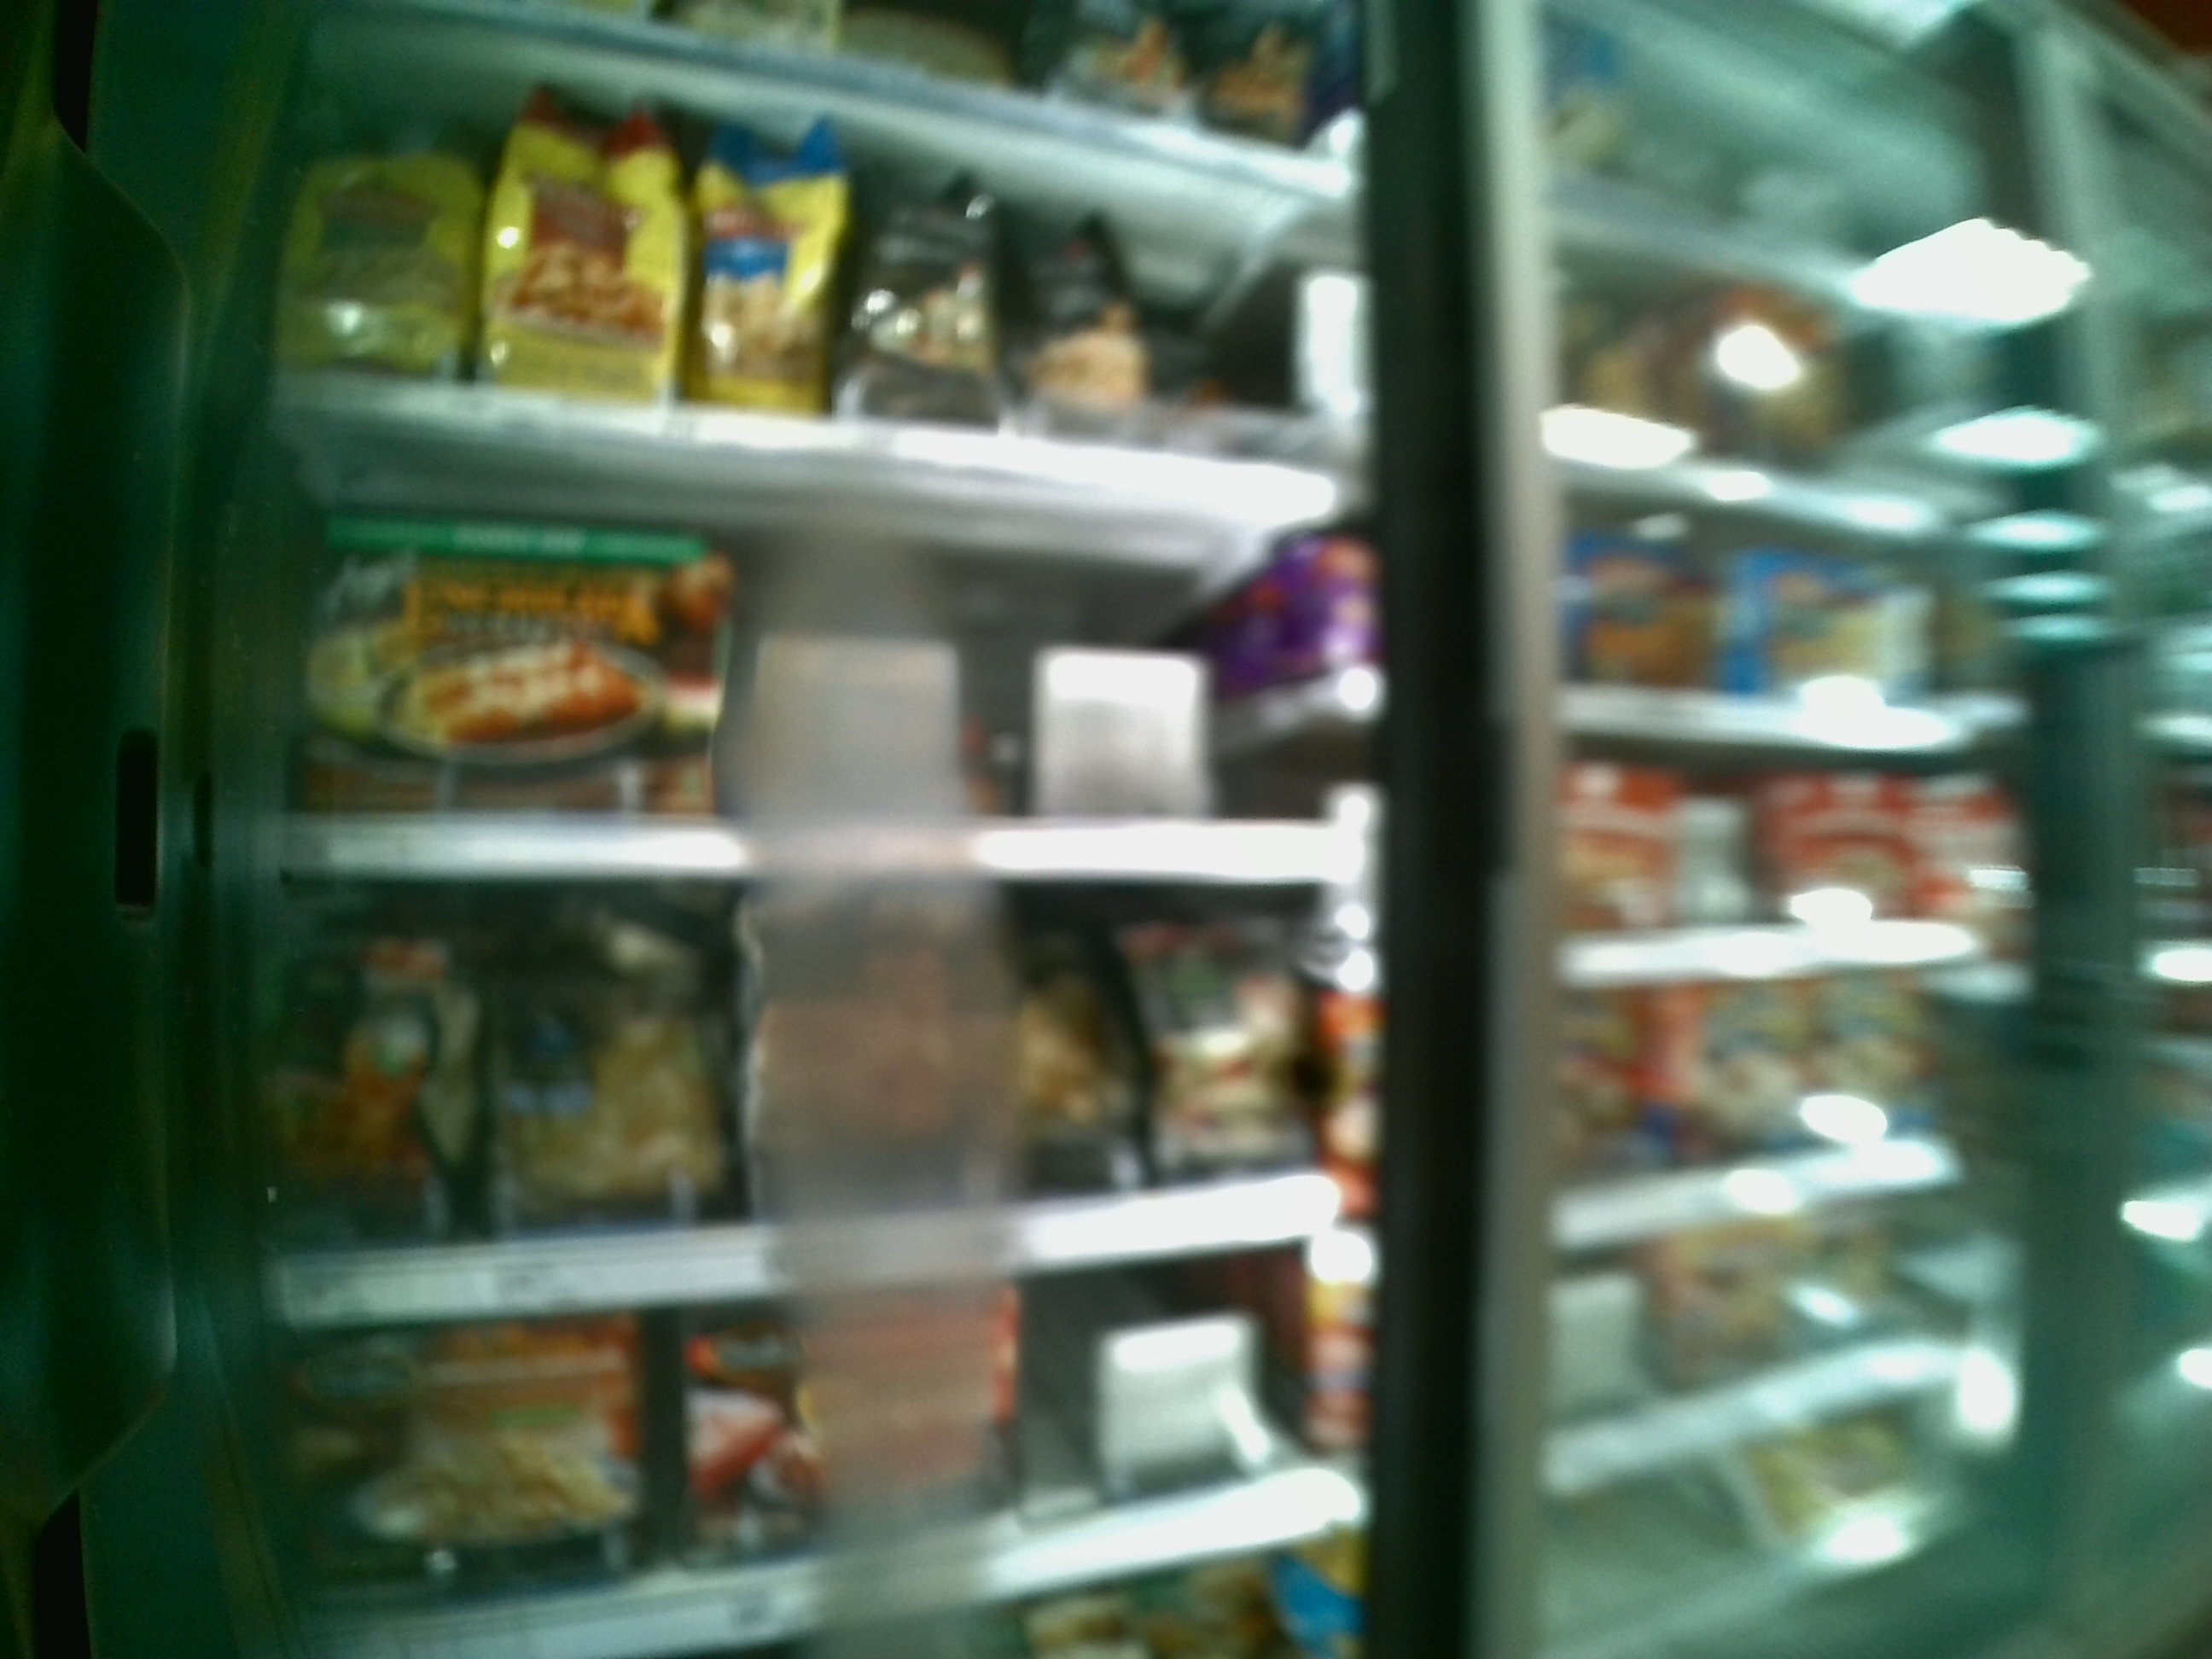shelf: (275, 885, 1362, 1314), (280, 483, 1372, 885), (293, 91, 1372, 486)
